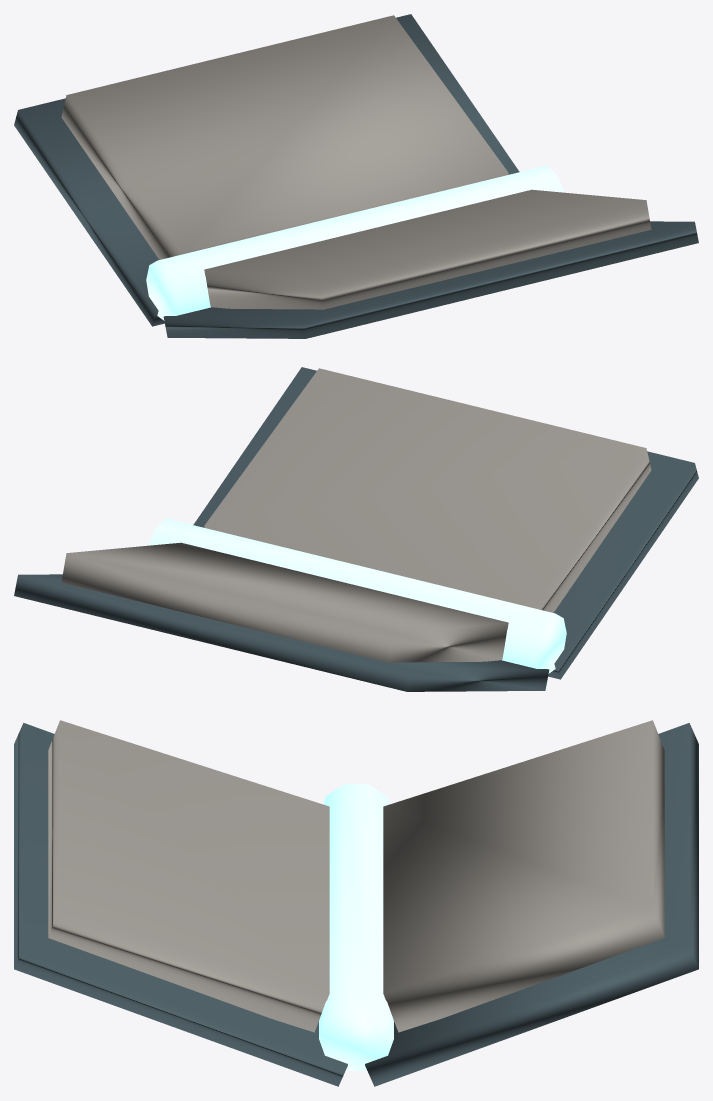
File: SM_Familiar_OpenGrimoire.fbx
3 renders of one model, top to bottom at view 1: azimuth 30°, elevation 25°; view 2: azimuth 150°, elevation 25°; view 3: azimuth 270°, elevation 25°, orthographic. The views are drawn at different scales.
Parts seen in each view (by area): view 1: Cube; view 2: Cube; view 3: Cube.
Boxes of the visible parts, bbox=[...] form: Cube: bbox=[14, 14, 698, 338]; Cube: bbox=[14, 367, 698, 691]; Cube: bbox=[14, 720, 698, 1086].
Bounding box in the file's own units: 0.5465 × 0.425 × 0.1412.
